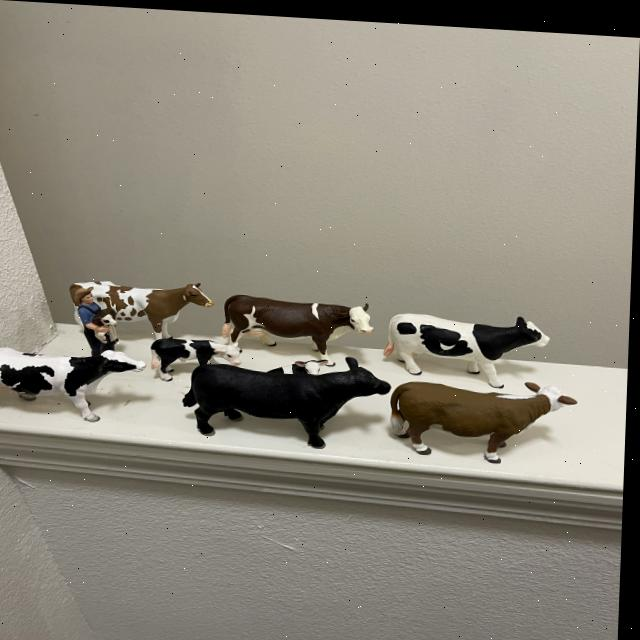cow: (183, 350, 397, 452), (392, 376, 579, 459), (386, 308, 553, 382), (0, 348, 149, 422), (224, 291, 377, 358), (72, 279, 216, 337), (153, 334, 245, 379), (92, 305, 128, 347), (270, 355, 331, 372)
person: (74, 284, 117, 357)
